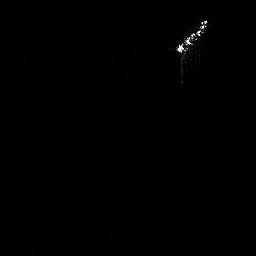ship: (170, 15, 211, 58)
